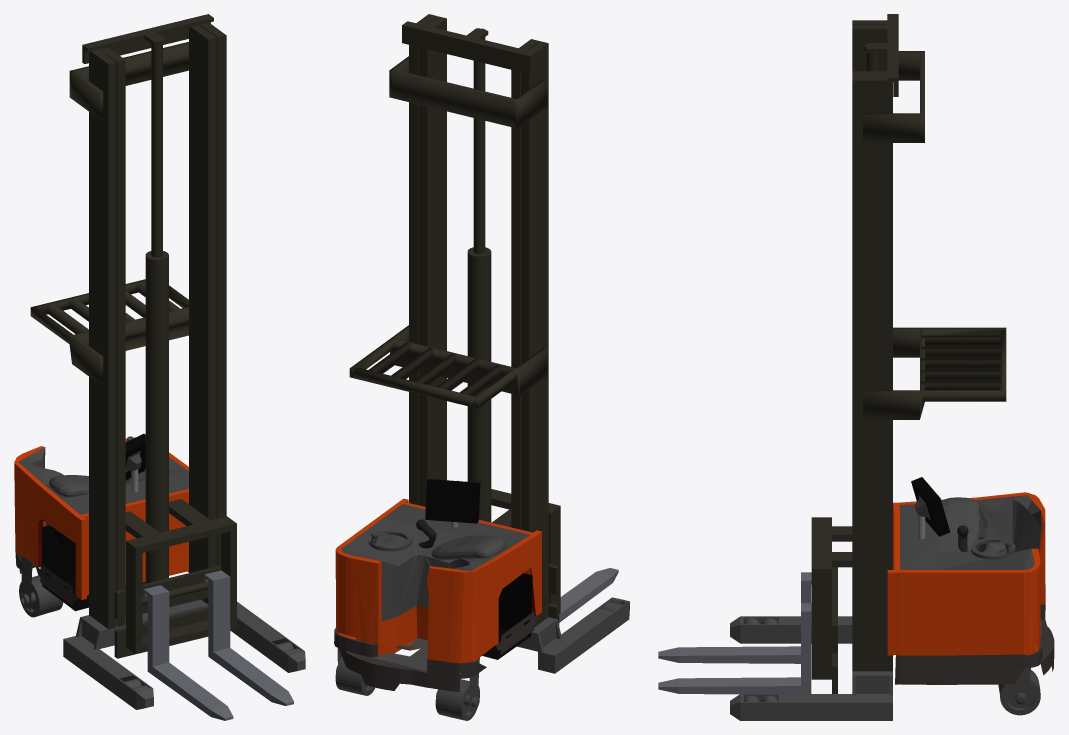
File: forks_upright.obj
3 renders of one model, left to right at view 1: azimuth 30°, elevation 25°; view 2: azimuth 150°, elevation 25°; view 3: azimuth 270°, elevation 25°, orthographic. The views are drawn at different scales.
Parts seen in each view (by area): view 1: forks_upright:Mesh; view 2: forks_upright:Mesh; view 3: forks_upright:Mesh.
Boxes of the visible parts, box(x1,y1,x2,y2) form: forks_upright:Mesh: box(14, 14, 305, 720); forks_upright:Mesh: box(334, 14, 629, 720); forks_upright:Mesh: box(658, 14, 1054, 720).
Bounding box in the file's own units: 0.7345 × 2.55 × 1.43.
